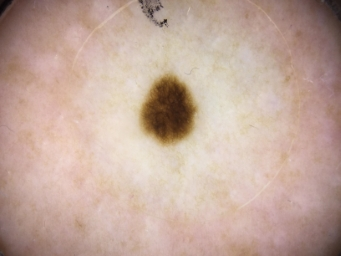nevus: (141, 78, 196, 144)
